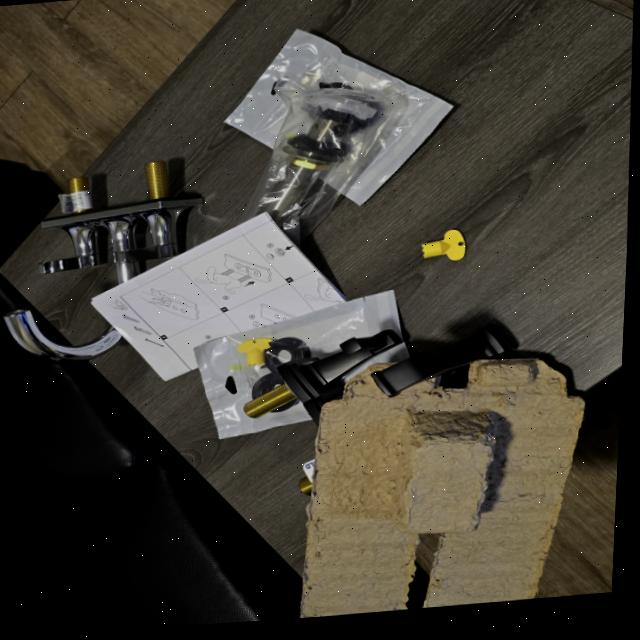10o: (39, 161, 201, 283), (3, 309, 120, 362)
11o: (246, 82, 394, 246)
12o: (192, 291, 399, 438)
13o: (224, 29, 452, 205)
14: (420, 229, 464, 260)
8: (90, 213, 344, 381)
9o: (243, 330, 402, 425), (370, 326, 514, 397), (298, 460, 312, 495)
